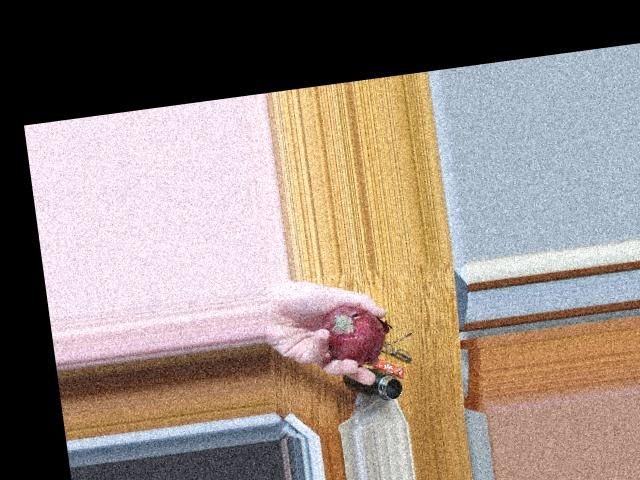onion: (328, 303, 387, 365)
